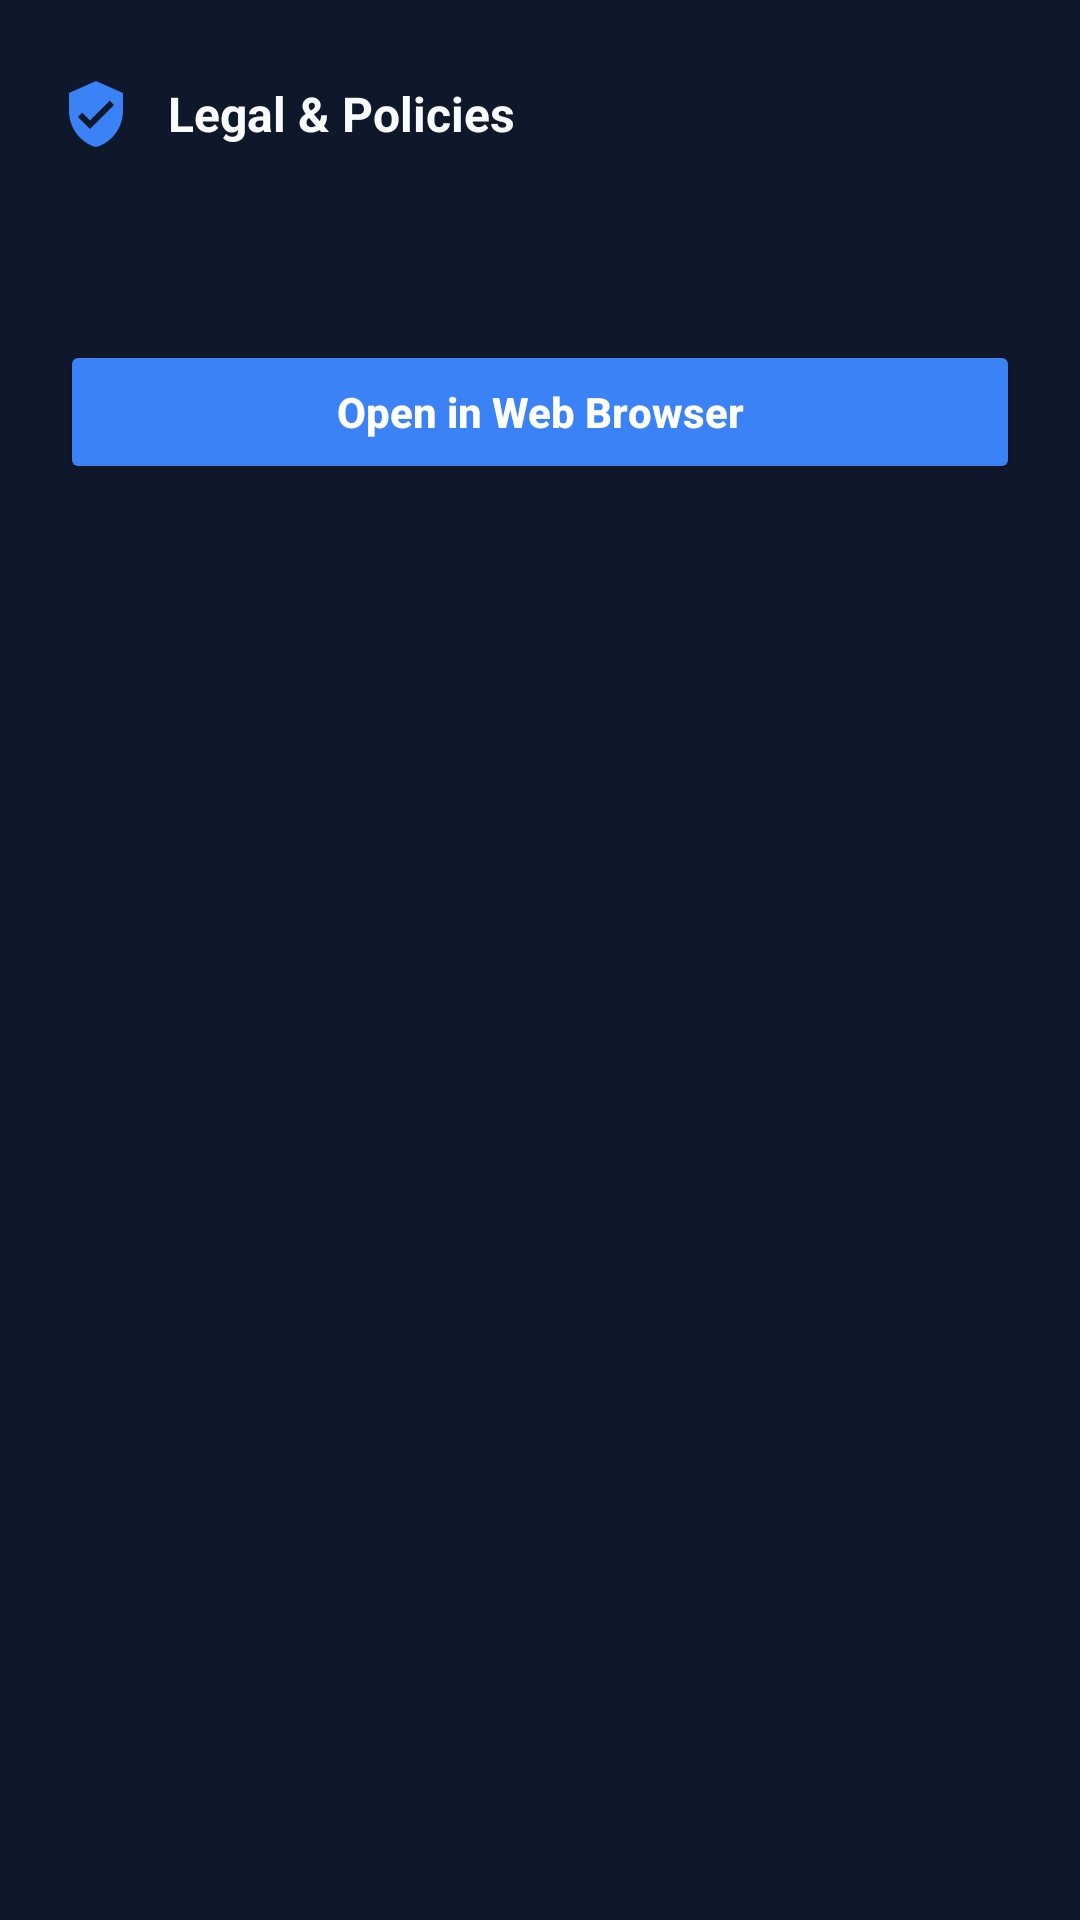

Locate icon controls on the screen. Image size 1080w x 1920h, boxes as box=[x1, y1, x2, y2].
shield check: box=[69, 81, 123, 147]
